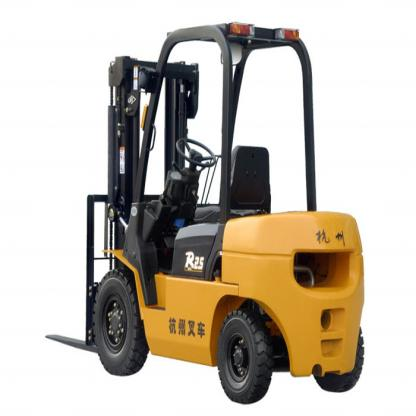forklift: (43, 21, 365, 406)
